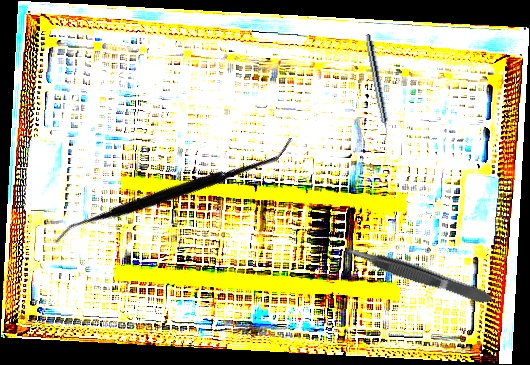Handpiece: (362, 33, 393, 141)
Spatula Surgical: (52, 61, 294, 320)
Tissue Forceps: (341, 238, 495, 311)
